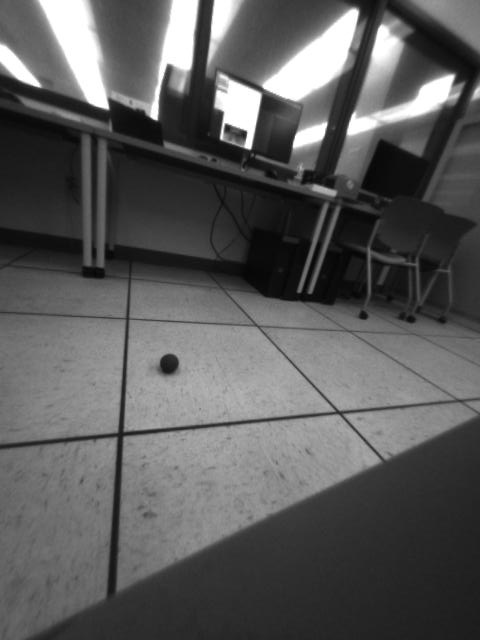dogtoy: (154, 346, 184, 380)
